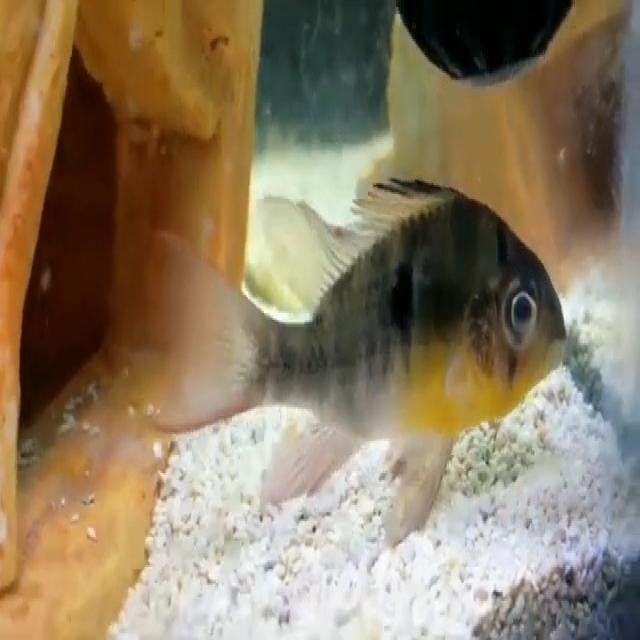fish: (149, 168, 578, 532)
